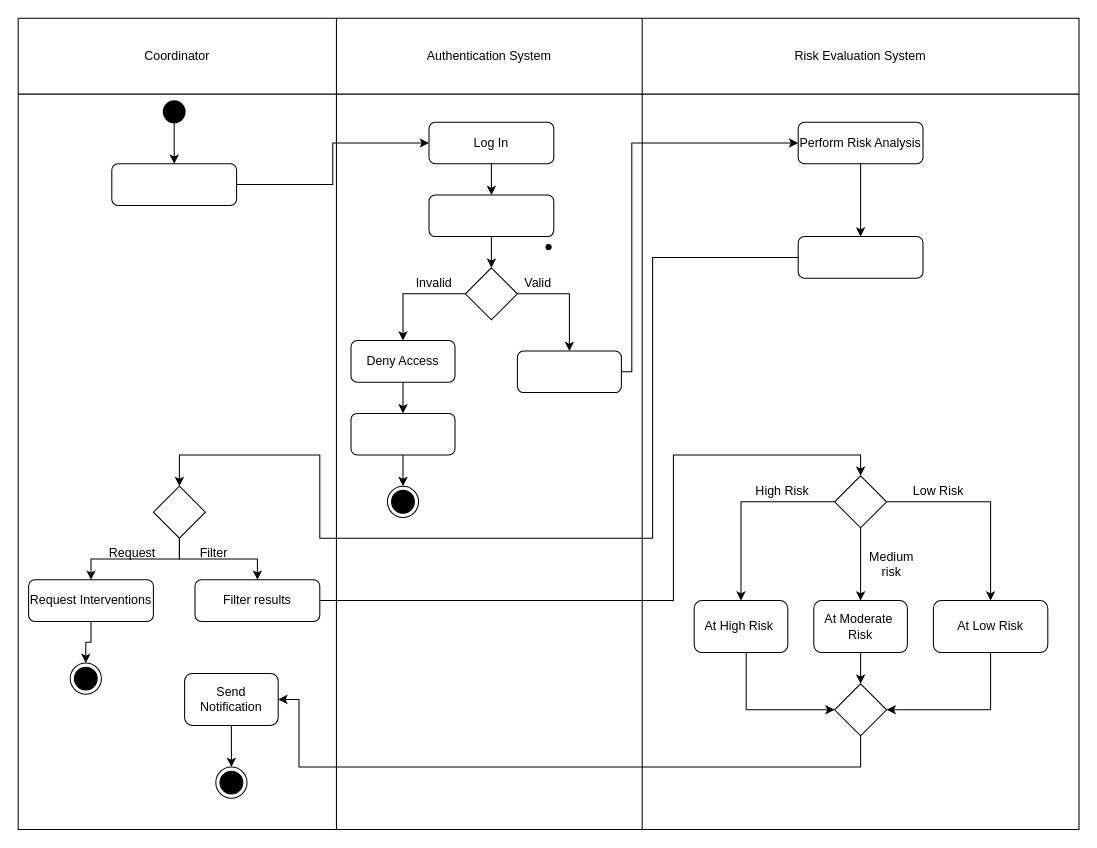
Some shapes in this 1097 by 848 pixel diagram are drawn without their labels. Each missing label, with the centre of its shape:
Display Invalid: [402,433]
Display Student Flags: [860,257]
Enter Credentials: [174,184]
Grant Access: [568,371]
Validate Credentials: [491,215]
